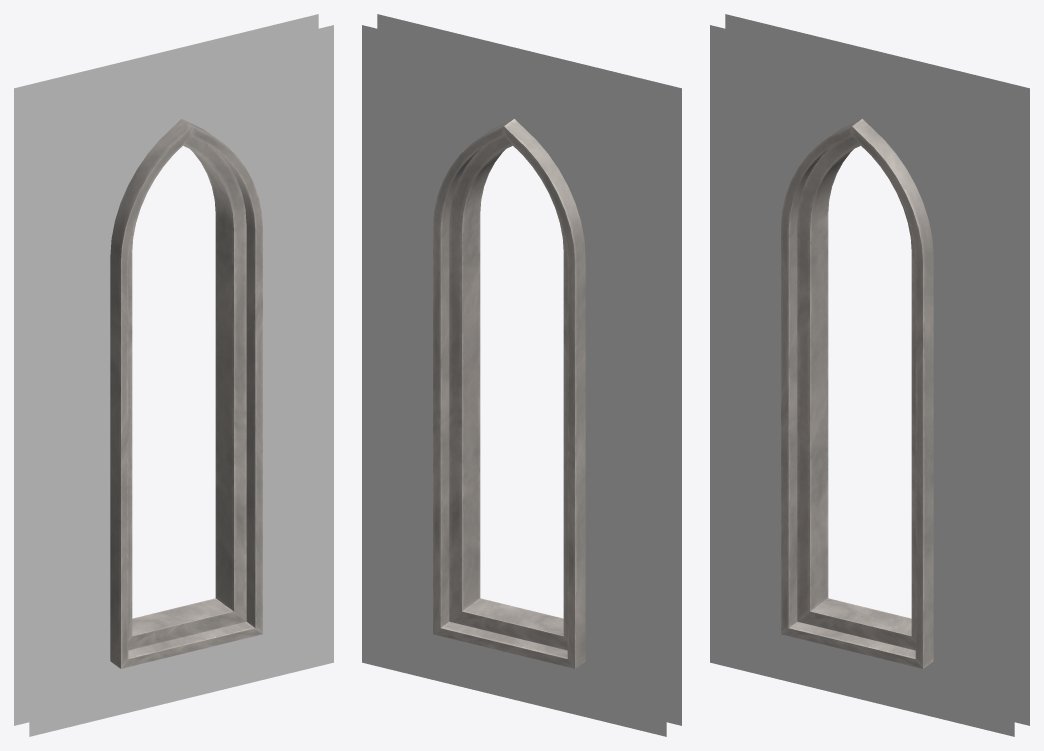
File: Wall_D_B.fbx
The picture shows the model from 3 angles, left to right: view 1: azimuth 30°, elevation 25°; view 2: azimuth 150°, elevation 25°; view 3: azimuth 330°, elevation 25°; orthographic projection.
Visible parts, largest first — view 1: Wall_D_B; view 2: Wall_D_B; view 3: Wall_D_B.
Part boxes in pixels (x1,y1,x2,y2): Wall_D_B: (14,14,333,736); Wall_D_B: (362,14,681,736); Wall_D_B: (710,14,1029,736).
Size of the model in its own units: 3 by 0.6115 by 6.
